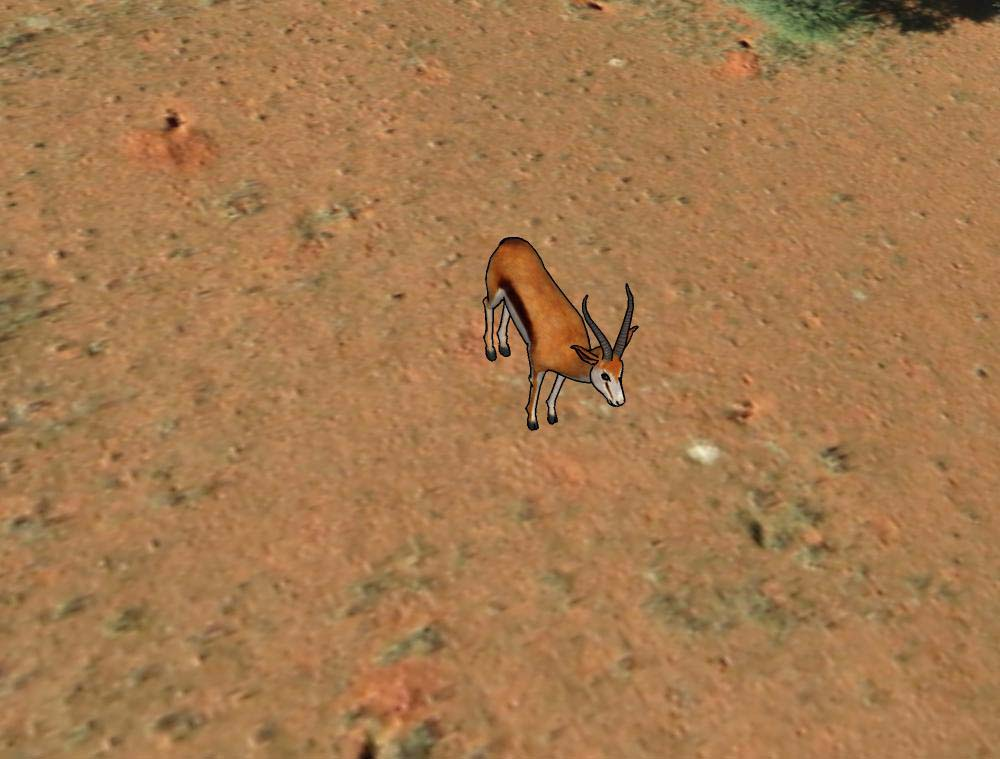springbok: (481, 231, 646, 439)
